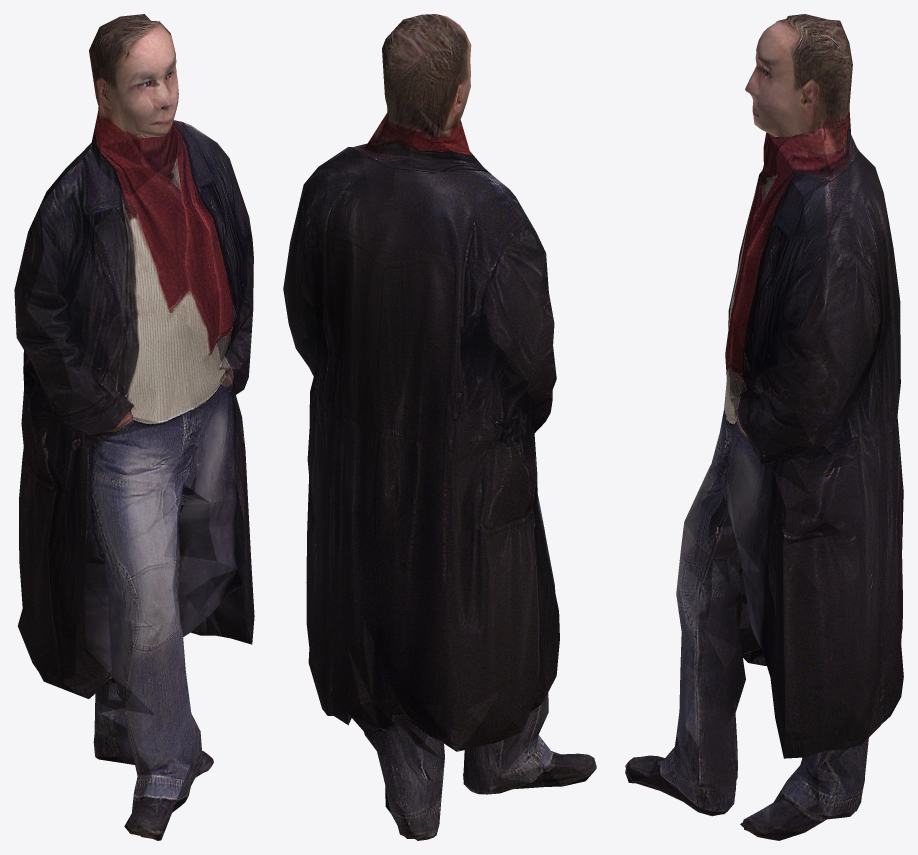
Rendered from Person_24.obj.
3 views of the same model, side by side, from view 1: azimuth 30°, elevation 25°; view 2: azimuth 150°, elevation 25°; view 3: azimuth 270°, elevation 25° (orthographic). The views are drawn at different scales.
Parts seen in each view (by area): view 1: Person_24; view 2: Person_24; view 3: Person_24.
Part boxes in pixels (x1,y1,x2,y2): Person_24: (14, 14, 254, 840); Person_24: (283, 14, 596, 840); Person_24: (625, 14, 903, 840).
Size of the model in its own units: 0.6275 by 1.9 by 0.6016.
Materials: 1 (1 with a texture image).
